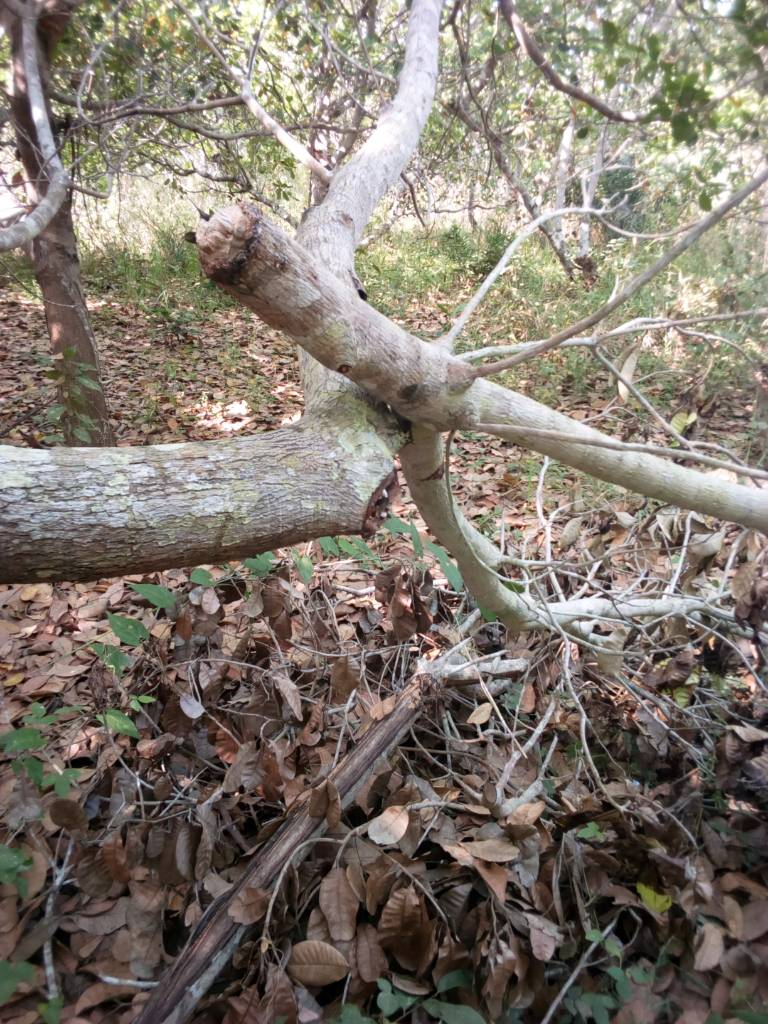Analepse trifasciata: (161, 192, 311, 292)
